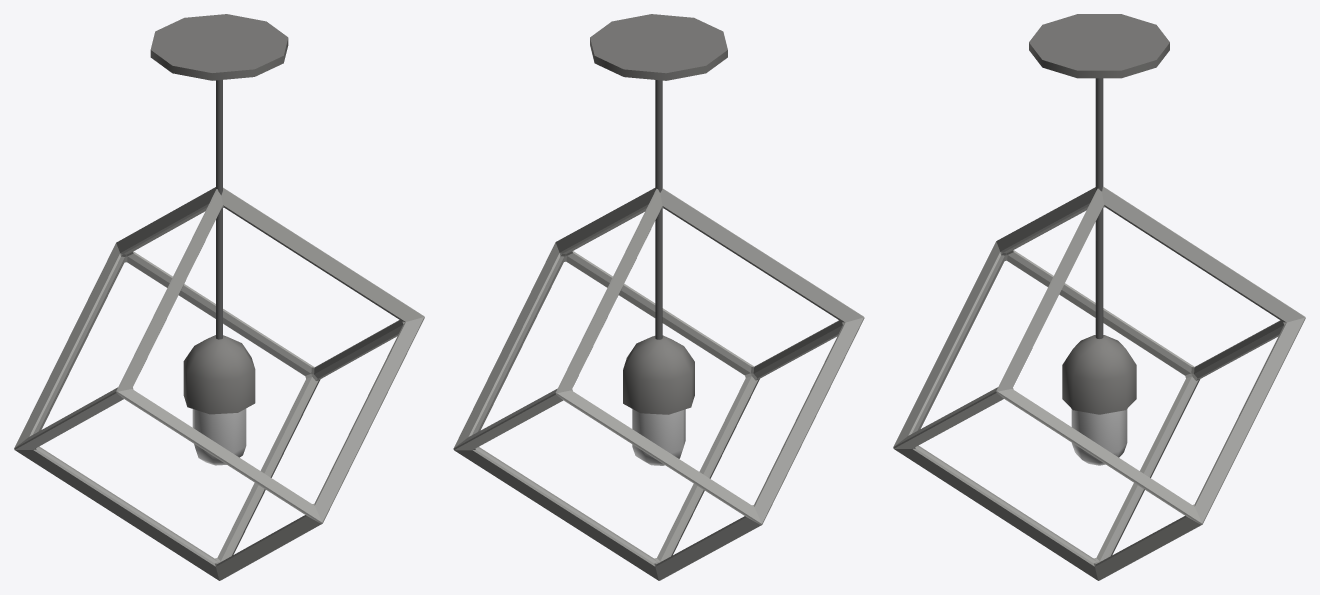
The model's file is Light_Cube2.glb.
3 views of the same model, side by side, from view 1: azimuth 30°, elevation 25°; view 2: azimuth 150°, elevation 25°; view 3: azimuth 270°, elevation 25° (orthographic).
Parts seen in each view (by area): view 1: Light_Cube2; view 2: Light_Cube2; view 3: Light_Cube2.
Part boxes in pixels (x1=…): Light_Cube2: x1=14, y1=14, x2=424, y2=580; Light_Cube2: x1=453, y1=14, x2=864, y2=580; Light_Cube2: x1=893, y1=14, x2=1305, y2=580.
Size of the model in its own units: 0.271 by 0.451 by 0.3133.
4 materials, 4 textured.
